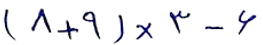character: (83, 11, 102, 40), (238, 9, 256, 39), (169, 10, 191, 34), (4, 9, 18, 42), (31, 9, 51, 32), (57, 21, 79, 39), (113, 14, 125, 43), (137, 22, 152, 40), (205, 25, 225, 36)
